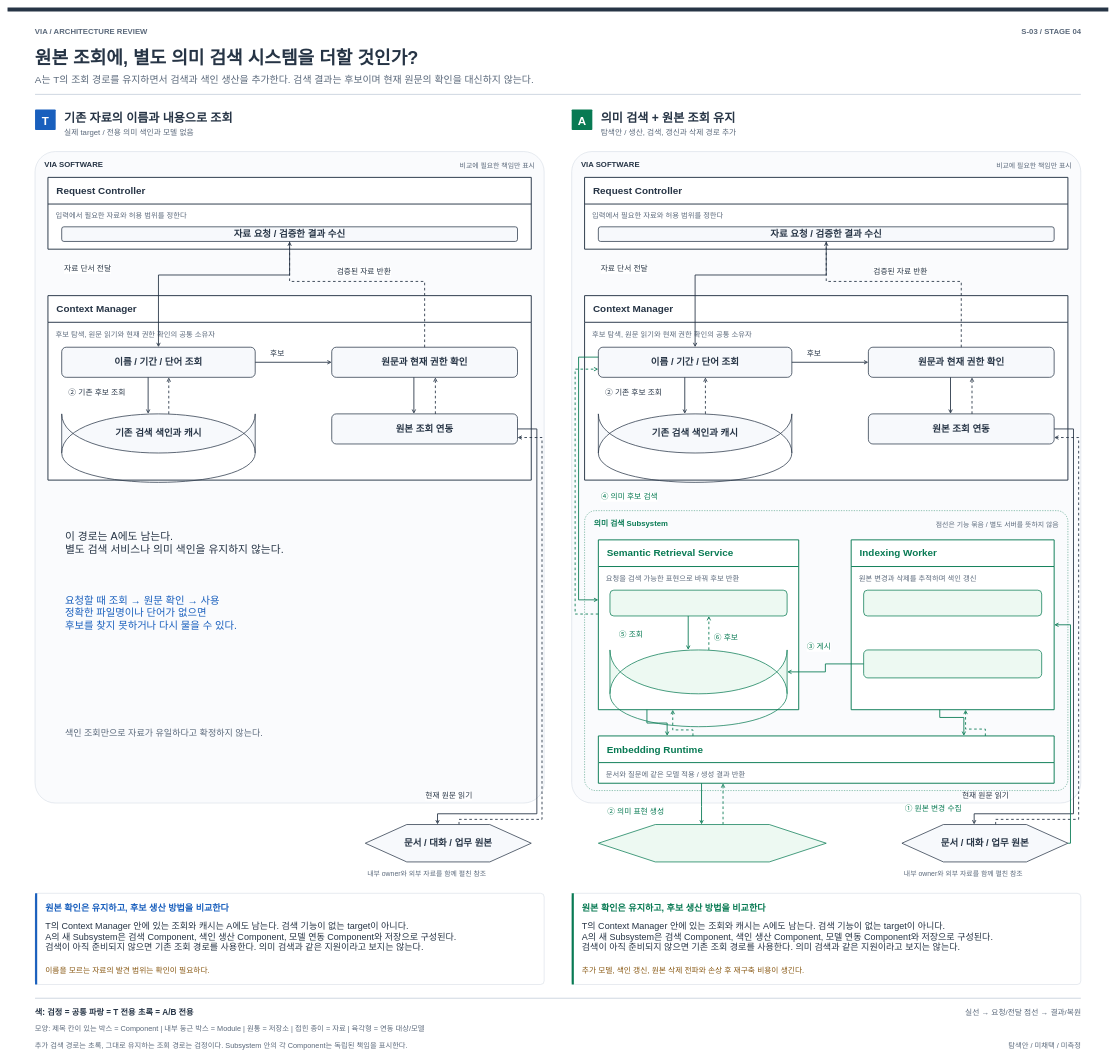
This 1115x1059 diagram has some shape labels left out. The shapes that lost their labels are listed below. From the top down, each one's centre as x and y in pixels, then its label:
At pixel 698 603: "질문 표현 생성과 후보 검색".
At pixel 952 603: "문서 분할과 표현 생성 요청".
At pixel 698 671: "의미 색인 + 원본 버전 목록".
At pixel 952 663: "완성 색인 게시 / 삭제 반영".
At pixel 712 843: "추가 의미 표현 모델 (Embedding)".
